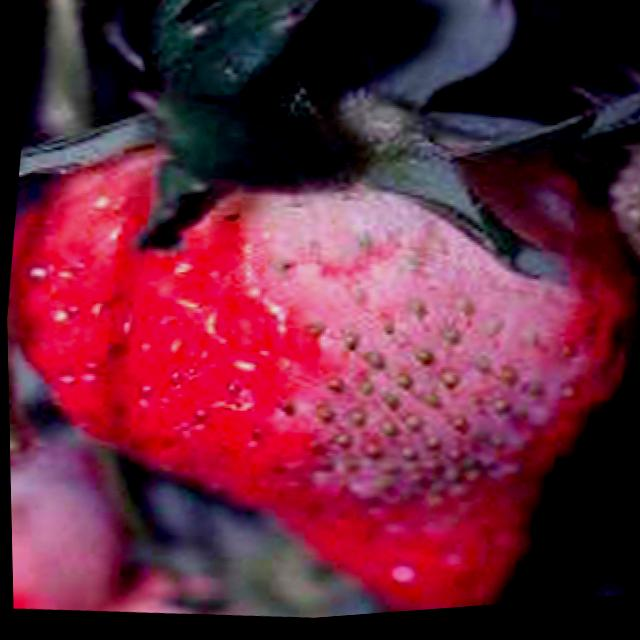Powdery Mildew Fruit: (5, 107, 633, 618), (606, 144, 640, 267)
